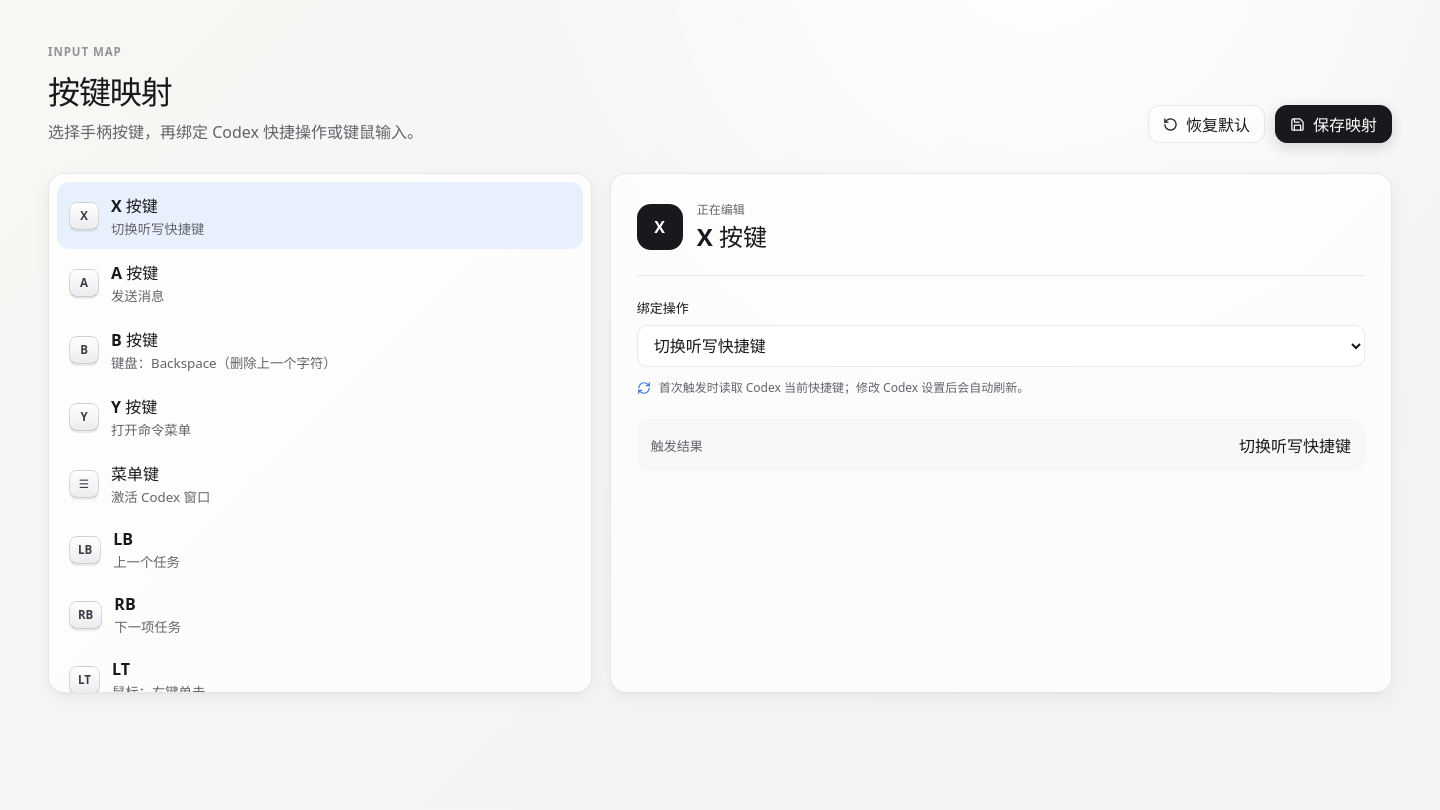
Scenario: MappingEditor › explains automatic Codex shortcut lookup only for Codex semantic actions
Expected: the text "首次触发时读取 Codex 当前快捷键；修改 Codex 设置后会自动刷新。" is shown, [659, 379, 1029, 397]
Select "键盘快捷键" in the dropdown labelled "绑定操作": point(1001, 346) [637, 325, 1365, 367]
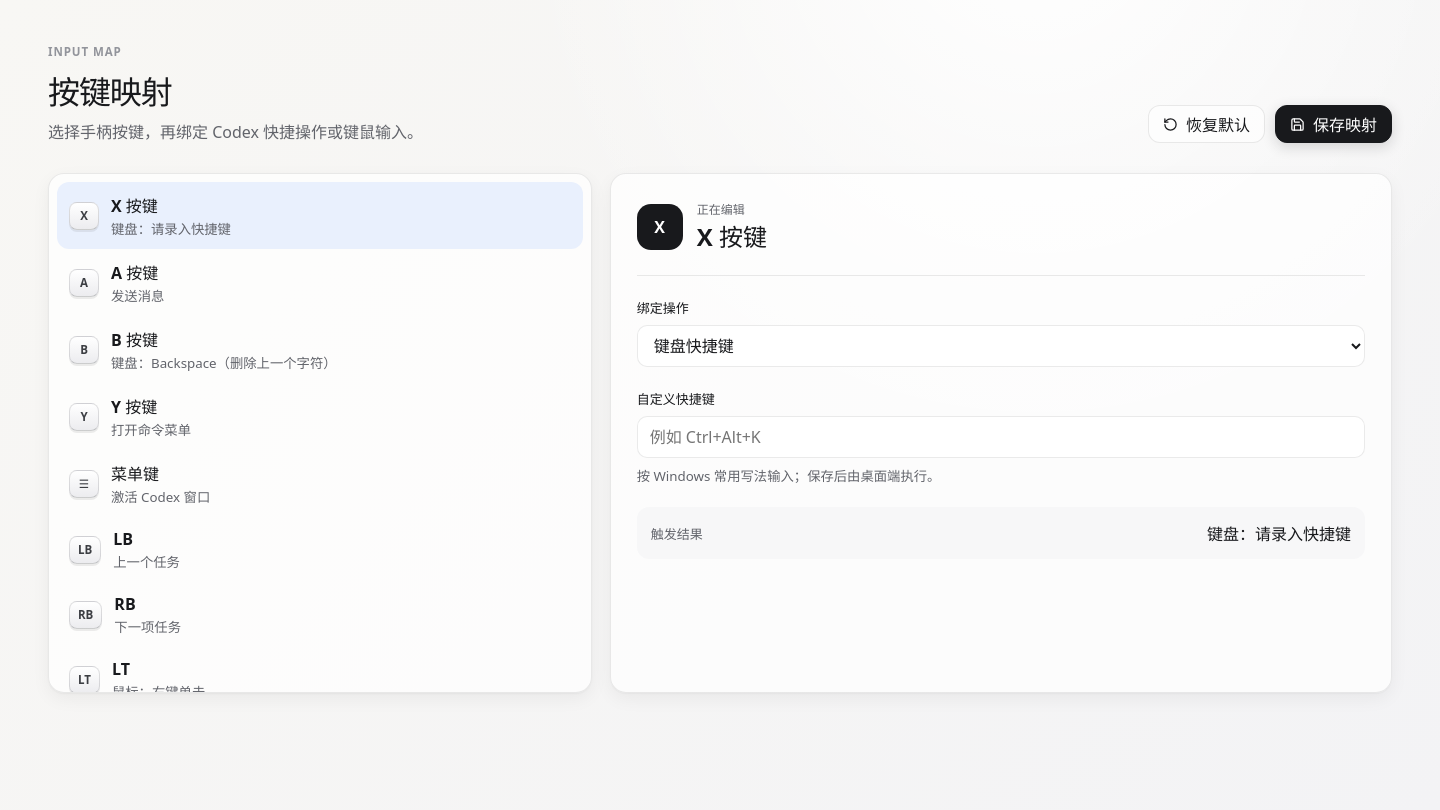
Now the text "首次触发时读取 Codex 当前快捷键；修改 Codex 设置后会自动刷新。" is gone
